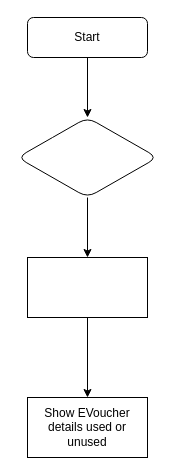
Image size: 175x475. Some labels were removed from this diagram. The centre of each missing label's shape, as x and y in pixels:
"Authentication And Authorization" belongs at (87,157).
"Make Purchase" belongs at (87,287).
